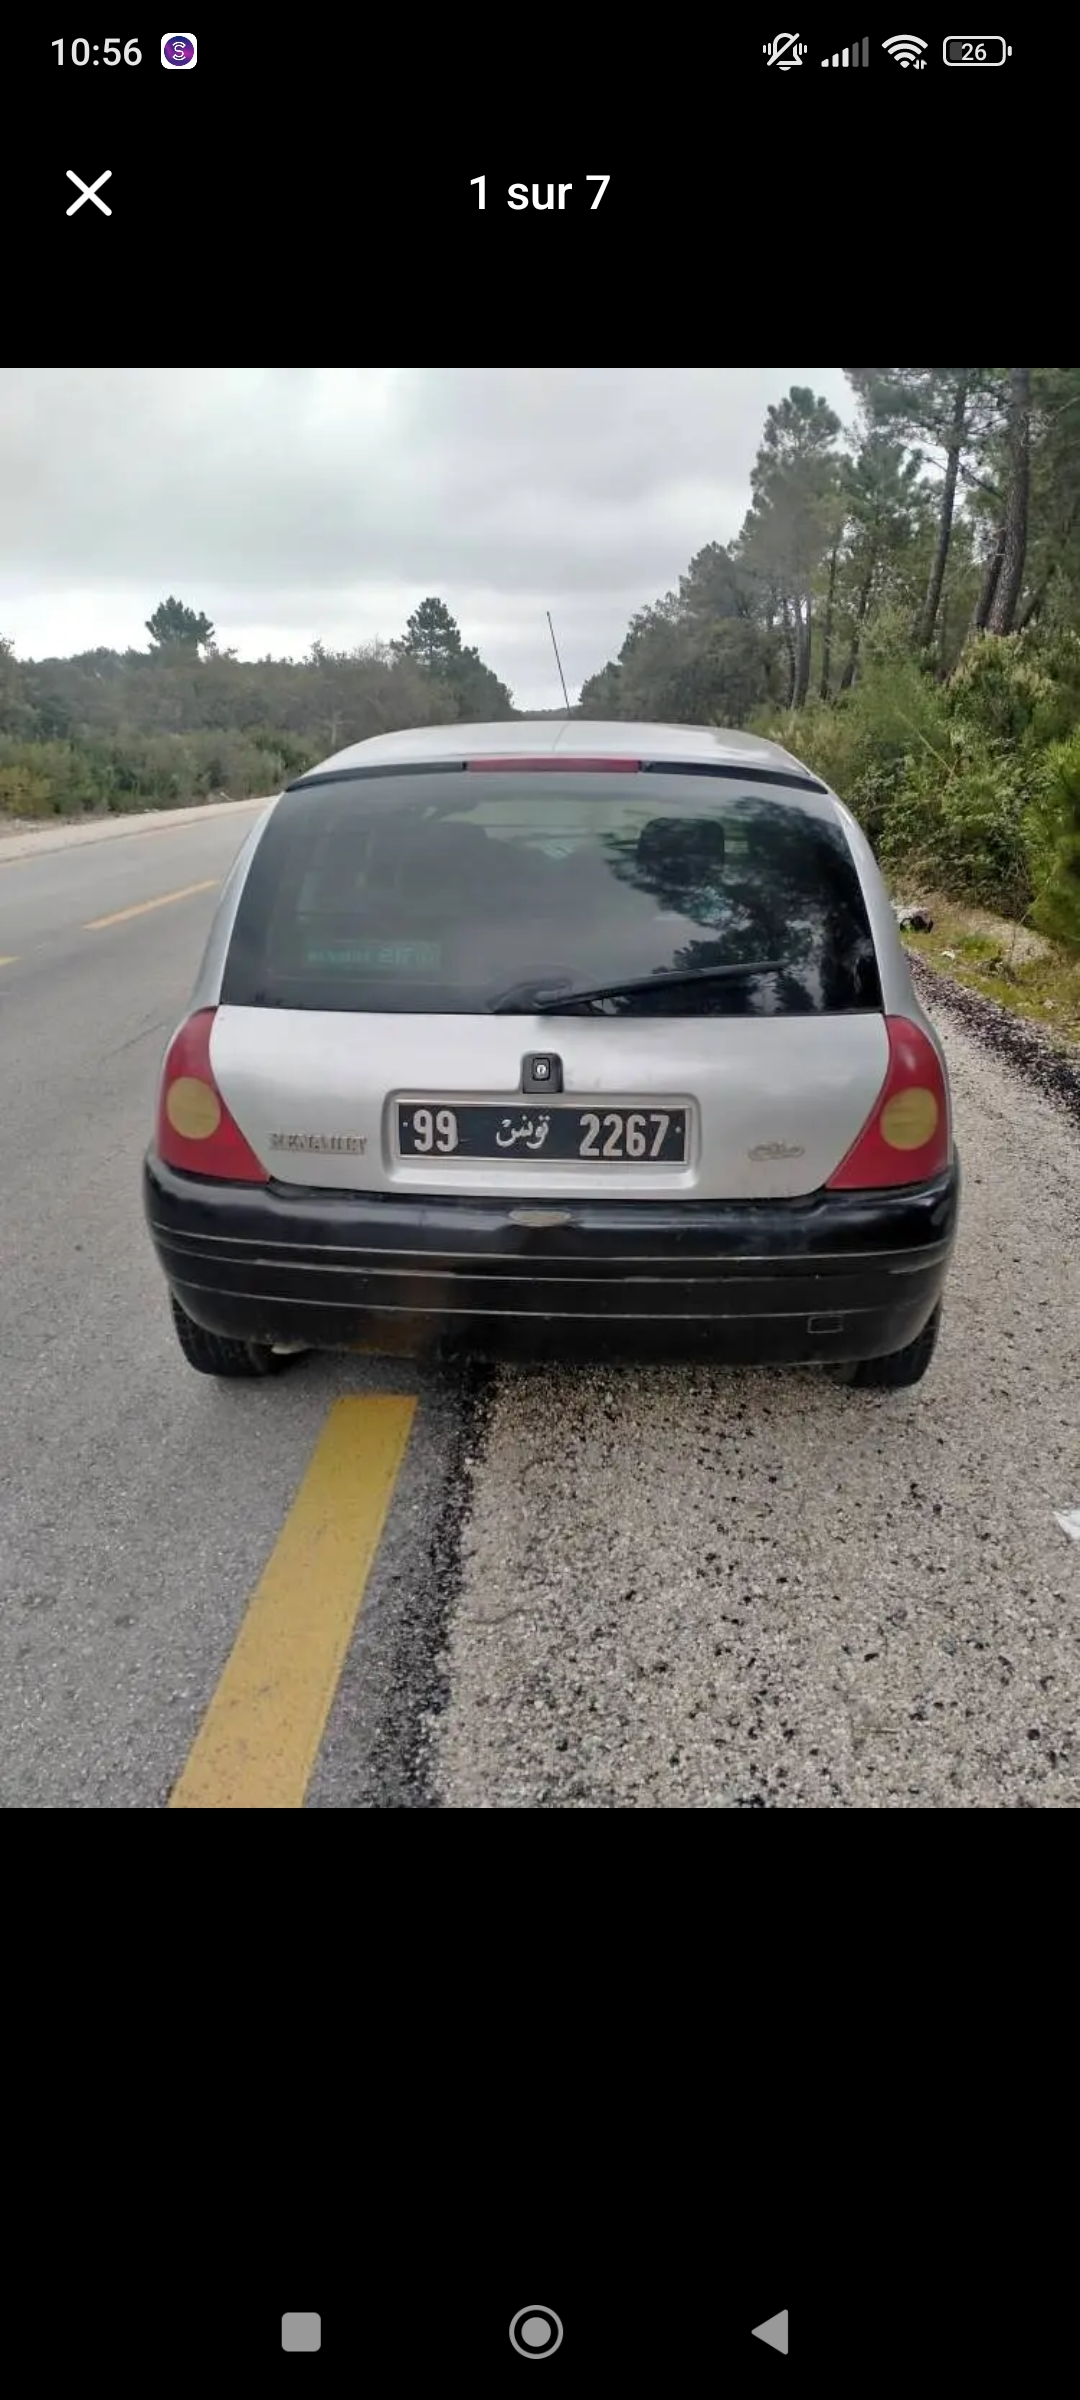renault: (146, 715, 961, 1423)
